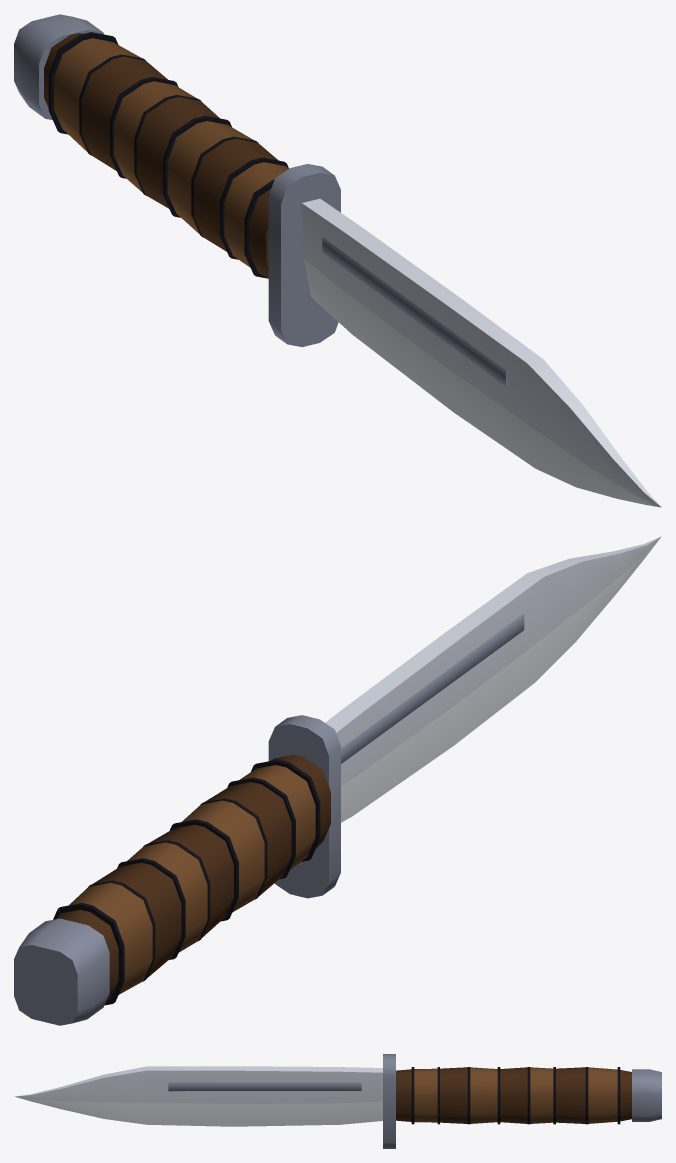
File: knife.fbx
3 views of the same model, one above another, from view 1: azimuth 30°, elevation 25°; view 2: azimuth 150°, elevation 25°; view 3: azimuth 270°, elevation 25° (orthographic). The views are drawn at different scales.
Visible parts, largest first — view 1: Body; view 2: Body; view 3: Body.
Boxes of the visible parts, <box> form: Body: <box>14,14,661,507</box>; Body: <box>14,536,661,1025</box>; Body: <box>15,1054,661,1148</box>.
Size of the model in its own units: 2.08 by 4.6 by 30.2.
